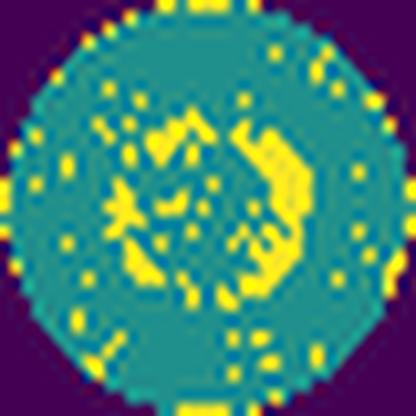Donut: (92, 97, 321, 317)
